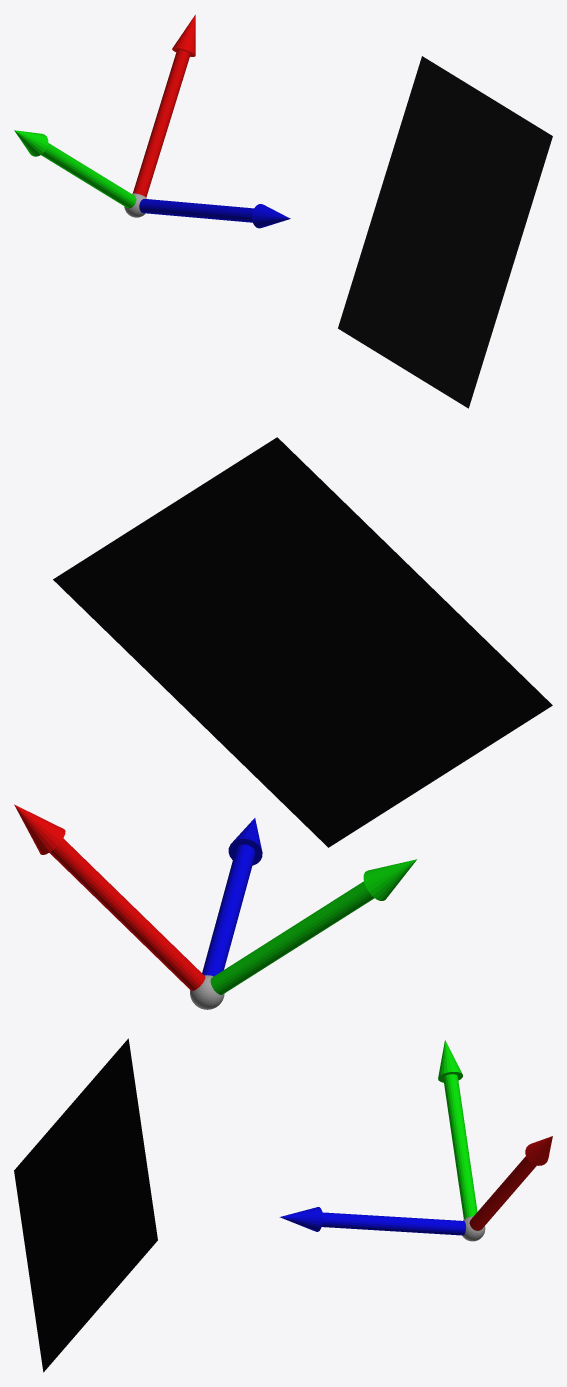
The picture shows the model from 3 angles, top to bottom: view 1: azimuth 30°, elevation 25°; view 2: azimuth 150°, elevation 25°; view 3: azimuth 270°, elevation 25°; orthographic projection. The views are drawn at different scales.
Size of the model in its own units: 0.2799 by 0.2169 by 0.3191.
